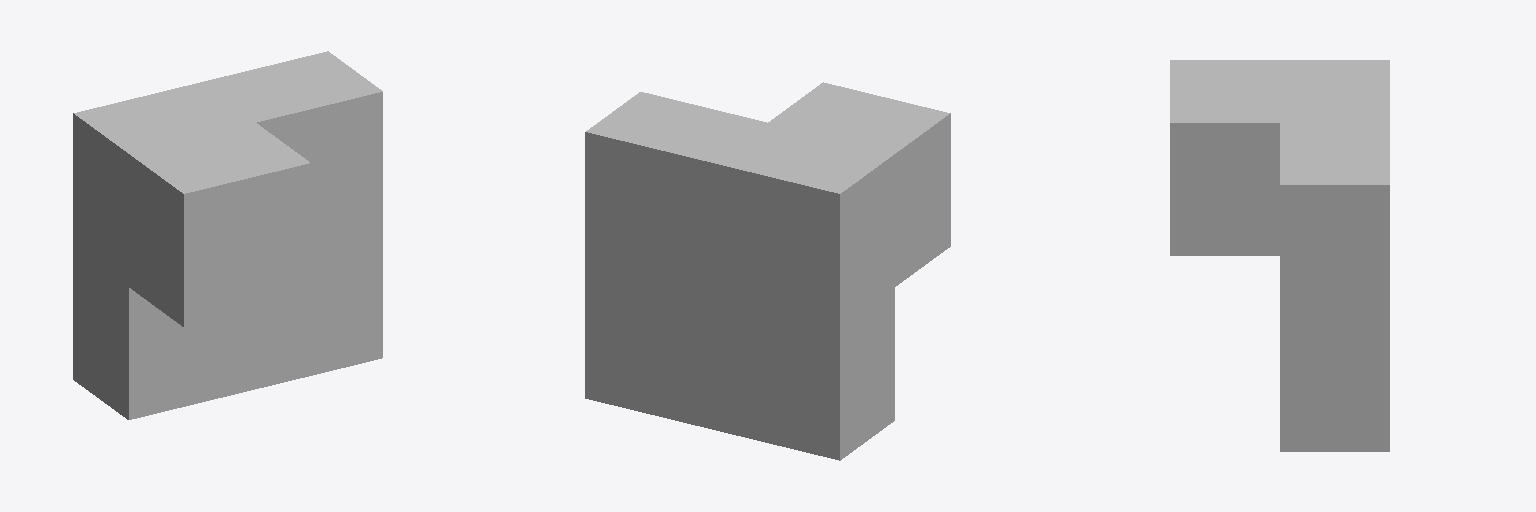
The model's file is E2-Vistas08.obj.
The picture shows the model from 3 angles: view 1: azimuth 30°, elevation 25°; view 2: azimuth 150°, elevation 25°; view 3: azimuth 270°, elevation 25°; orthographic projection.
Visible parts, largest first — view 1: mesh3, mesh5, mesh4, mesh8; view 2: mesh2, mesh5, mesh4; view 3: mesh1, mesh4, mesh7.
Boxes of the visible parts, x1,y1,x2,y2 form: mesh3: [129, 92, 382, 419]; mesh5: [73, 113, 183, 419]; mesh4: [74, 51, 382, 193]; mesh8: [184, 163, 310, 326]; mesh2: [585, 132, 839, 460]; mesh5: [840, 113, 950, 460]; mesh4: [586, 82, 949, 193]; mesh1: [1280, 185, 1389, 451]; mesh4: [1170, 60, 1389, 184]; mesh7: [1170, 123, 1279, 255].
Size of the model in its own units: 0.04 by 0.04 by 0.03.